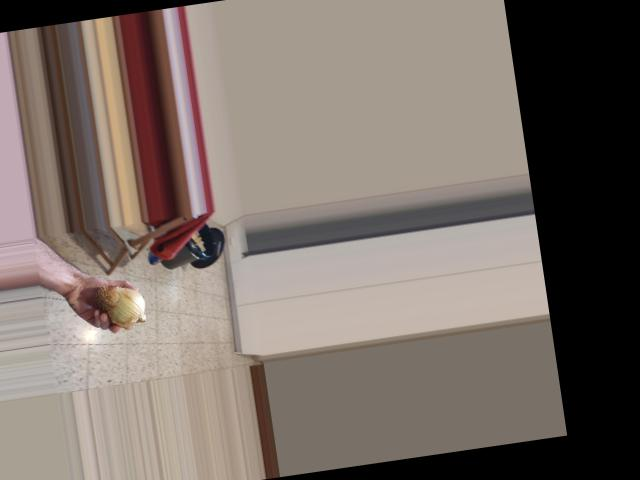onion: (97, 279, 148, 330)
